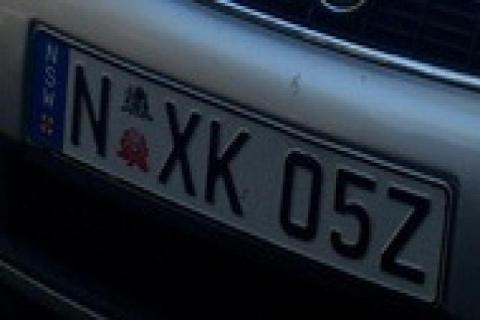LicensePlate: (19, 8, 452, 312)
